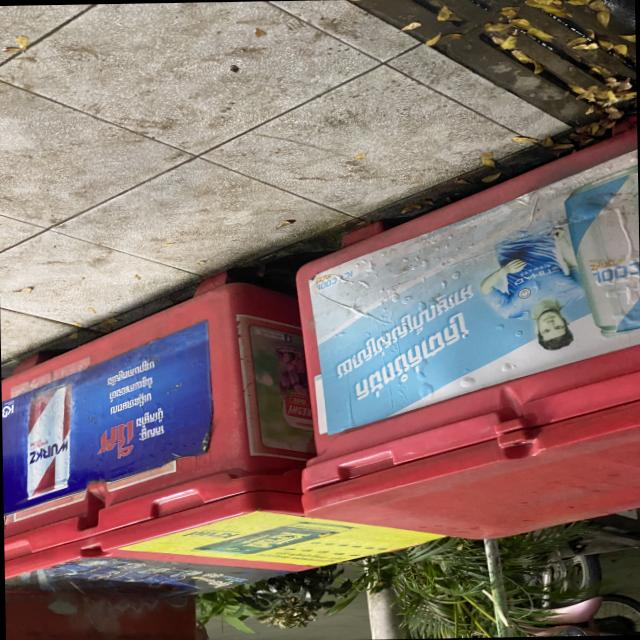Yolov11_80vkh: (326, 275, 484, 388), (339, 306, 477, 411), (89, 415, 139, 468), (102, 386, 157, 421), (102, 374, 157, 407), (101, 357, 157, 388), (133, 405, 166, 429), (135, 421, 167, 444)
